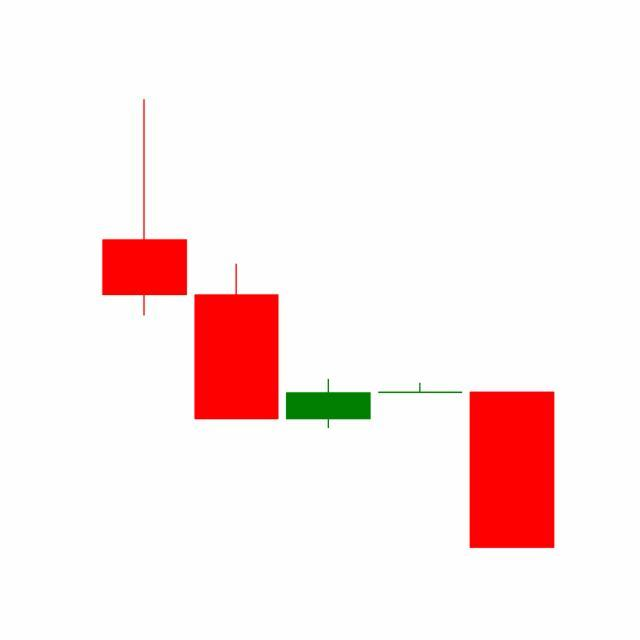Marubozu: (466, 390, 559, 550)
